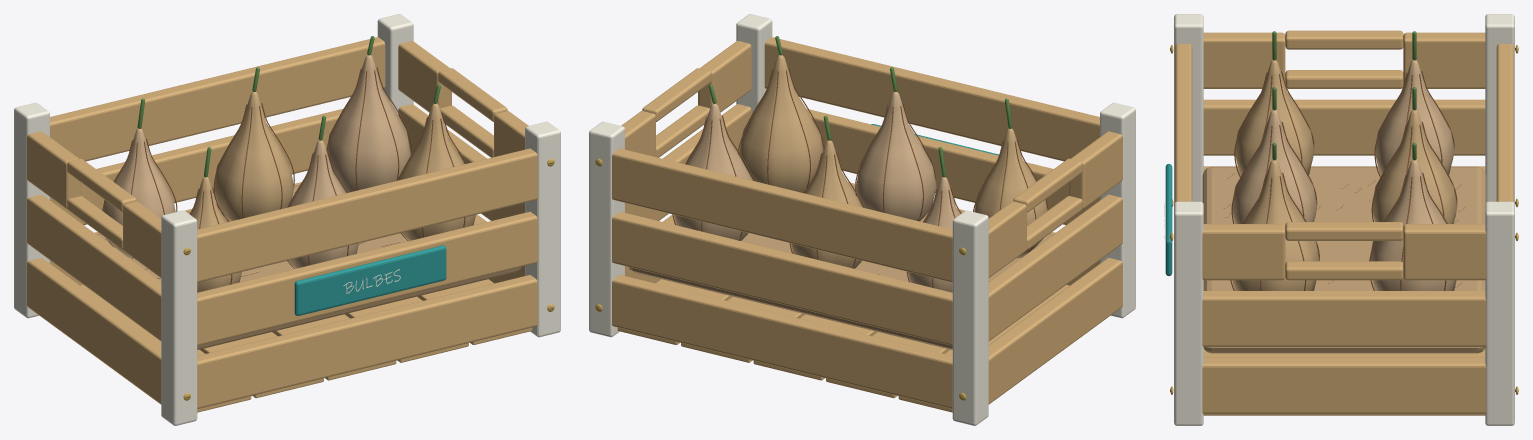
The model's file is crate_bulbs.glb.
3 renders of one model, left to right at view 1: azimuth 30°, elevation 25°; view 2: azimuth 150°, elevation 25°; view 3: azimuth 270°, elevation 25°, orthographic. The views are drawn at different scales.
Parts seen in each view (by area): view 1: Front_rear_slat.005, Front_rear_slat.003, Front_rear_slat.002, Front_rear_slat.004, Side_lower_slat.001, Side_lower_slat, Corner_upright.001, Teardrop_flower_bulb.002, Teardrop_flower_bulb.001, Front_rear_slat.001, Corner_upright.003, Removable_inventory_label (+21 smaller); view 2: Front_rear_slat.002, Front_rear_slat, Front_rear_slat.001, Front_rear_slat.005, Side_lower_slat.001, Side_lower_slat, Corner_upright, Teardrop_flower_bulb.005, Teardrop_flower_bulb.004, Front_rear_slat.004, Corner_upright.002, Corner_upright.001 (+20 smaller); view 3: Side_lower_slat.002, Side_lower_slat.003, Removable_straw_liner, Side_lower_slat.001, Corner_upright.002, Corner_upright.003, Side_handle_cheek.002, Side_handle_cheek.003, Side_handle_cheek, Side_handle_cheek.001, Teardrop_flower_bulb.004, Teardrop_flower_bulb.001 (+15 smaller).
Boxes of the visible parts, x1,y1,x2,y2 form: Front_rear_slat.005: (197,148,537,282); Front_rear_slat.003: (197,275,537,408); Front_rear_slat.002: (50,37,385,161); Front_rear_slat.004: (197,211,537,345); Side_lower_slat.001: (27,194,161,341); Side_lower_slat: (27,258,161,404); Corner_upright.001: (161,210,197,425); Teardrop_flower_bulb.002: (327,55,410,192); Teardrop_flower_bulb.001: (213,92,293,221); Front_rear_slat.001: (50,108,343,224); Corner_upright.003: (525,121,560,337); Removable_inventory_label: (294,245,446,315); Front_rear_slat.002: (612,148,952,282); Front_rear_slat: (612,275,952,408); Front_rear_slat.001: (612,211,952,345); Front_rear_slat.005: (764,37,1099,161); Side_lower_slat.001: (988,194,1122,341); Side_lower_slat: (988,258,1122,404); Corner_upright: (952,210,988,425); Teardrop_flower_bulb.005: (739,55,823,192); Teardrop_flower_bulb.004: (856,92,936,221); Front_rear_slat.004: (806,108,1099,224); Corner_upright.002: (589,121,624,337); Corner_upright.001: (1100,102,1135,318); Side_lower_slat.002: (1202,357,1486,413); Side_lower_slat.003: (1202,291,1486,346); Removable_straw_liner: (1202,166,1486,353); Side_lower_slat.001: (1203,99,1485,155); Corner_upright.002: (1485,201,1514,425); Corner_upright.003: (1174,201,1203,425); Side_handle_cheek.002: (1403,224,1486,280); Side_handle_cheek.003: (1202,224,1285,280); Side_handle_cheek: (1403,32,1485,88); Side_handle_cheek.001: (1203,32,1285,88); Teardrop_flower_bulb.004: (1231,110,1317,223); Teardrop_flower_bulb.001: (1371,110,1457,223).
Bounding box in the file's own units: 0.642 × 0.3667 × 0.4803.
